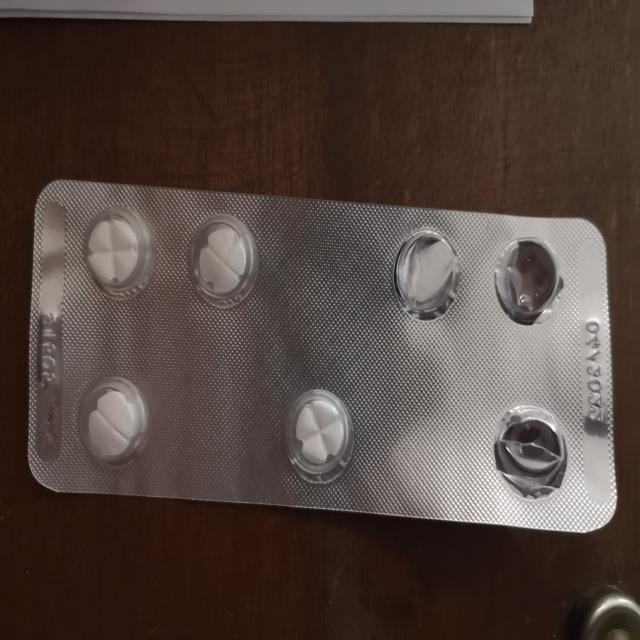Empty: (482, 228, 570, 329), (489, 402, 575, 497), (386, 222, 463, 317)
Pill: (183, 210, 257, 308), (282, 385, 356, 483), (74, 375, 146, 470), (82, 205, 151, 298)
